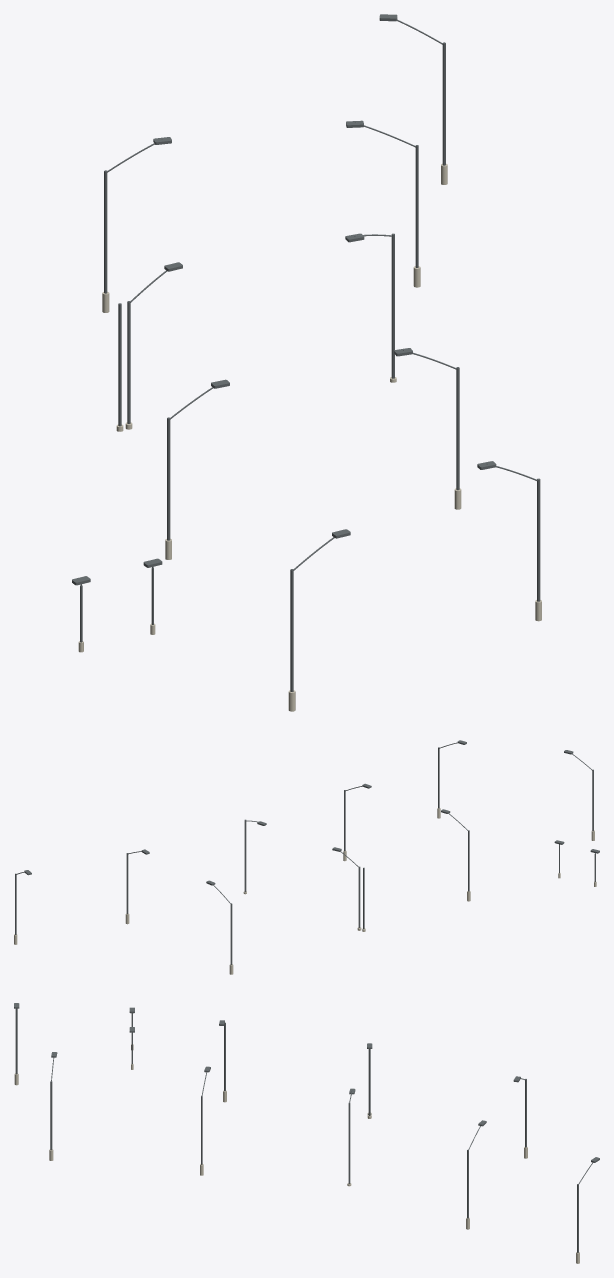
The picture shows the model from 3 angles, top to bottom: view 1: azimuth 30°, elevation 25°; view 2: azimuth 150°, elevation 25°; view 3: azimuth 270°, elevation 25°; orthographic projection. The views are drawn at different scales.
Parts seen in each view (by area): view 1: buildings_s_-9_-2_Dark_Metal, buildings_s_-9_-2_Warm_Limestone; view 2: buildings_s_-9_-2_Dark_Metal, buildings_s_-9_-2_Warm_Limestone; view 3: buildings_s_-9_-2_Dark_Metal, buildings_s_-9_-2_Warm_Limestone.
Part boxes in pixels (x1,y1,x2,y2): buildings_s_-9_-2_Dark_Metal: [72, 14, 540, 691]; buildings_s_-9_-2_Warm_Limestone: [78, 163, 541, 711]; buildings_s_-9_-2_Dark_Metal: [15, 740, 599, 964]; buildings_s_-9_-2_Warm_Limestone: [14, 808, 596, 974]; buildings_s_-9_-2_Dark_Metal: [14, 1003, 599, 1252]; buildings_s_-9_-2_Warm_Limestone: [14, 1044, 579, 1263].
Size of the model in its own units: 86.19 by 17.75 by 101.
